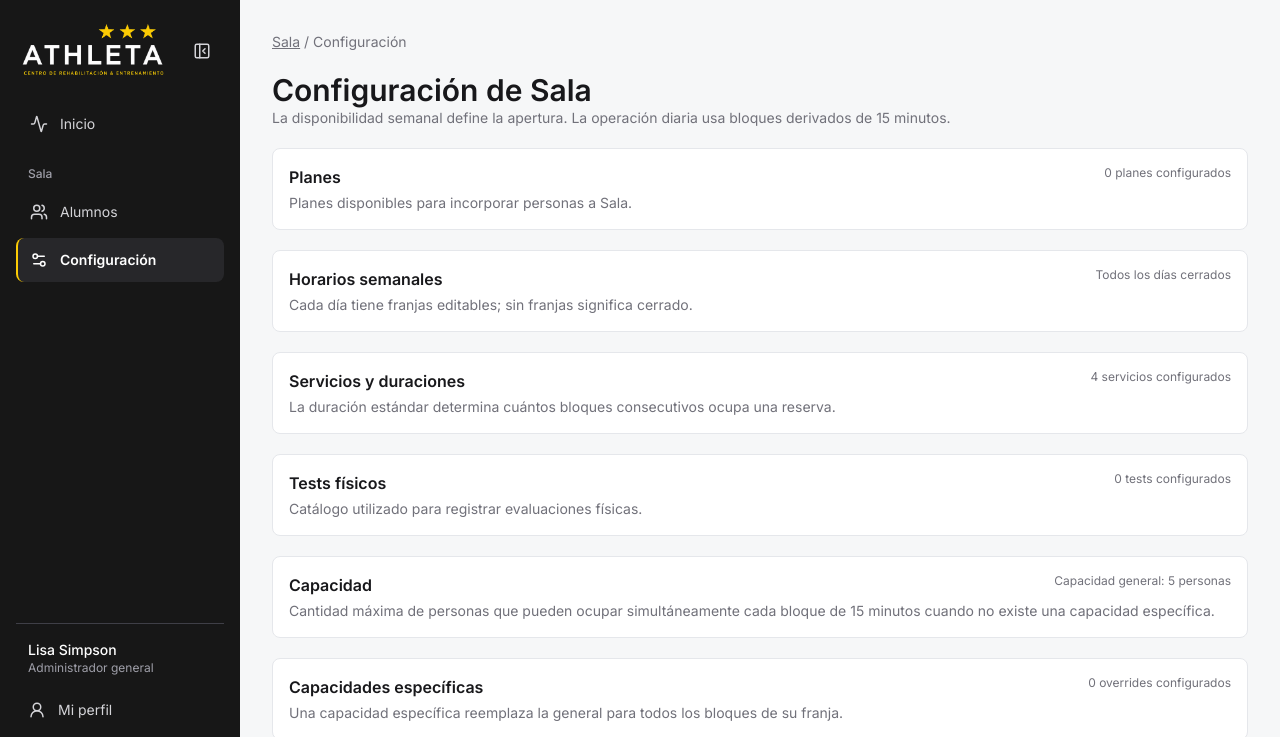
Test: opens the real-field modal, creates a test and refreshes the listing
Click the heading "Tests físicos" at (338, 483), box [289,471,386,495]
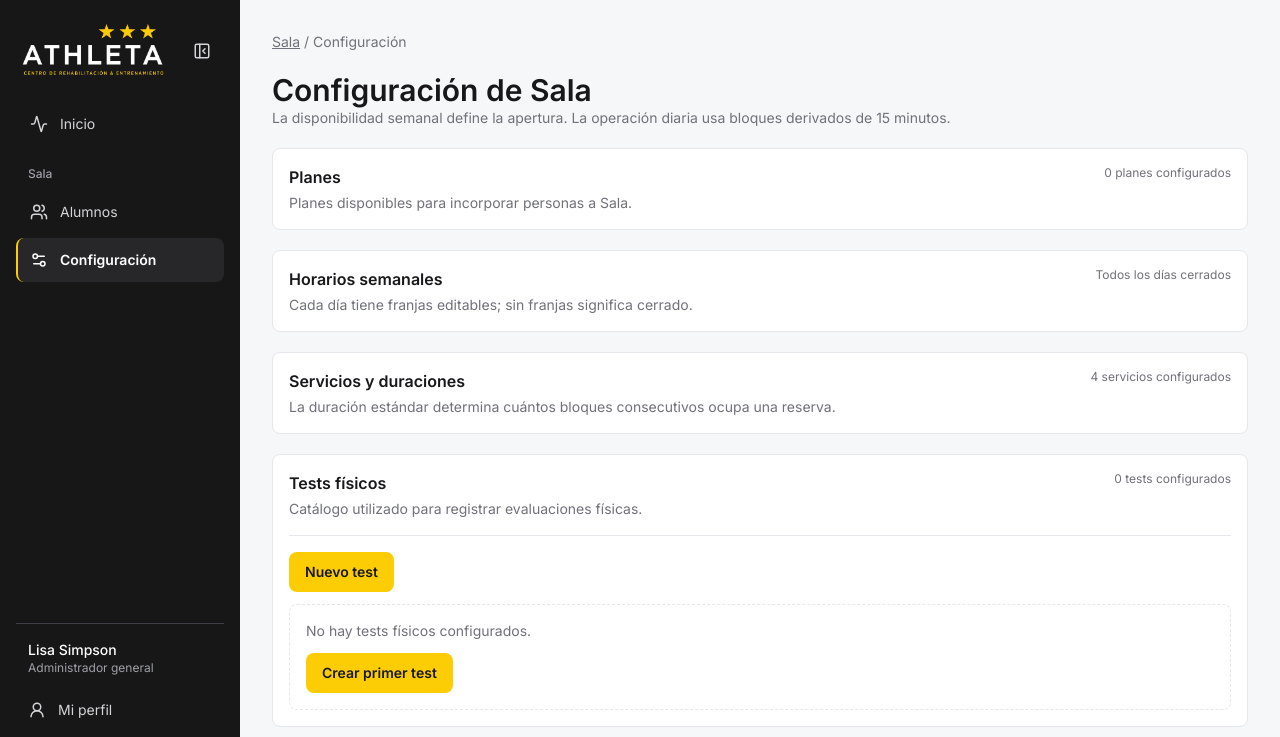
Click the button "Crear primer test" at (379, 673), box [306,653,453,693]
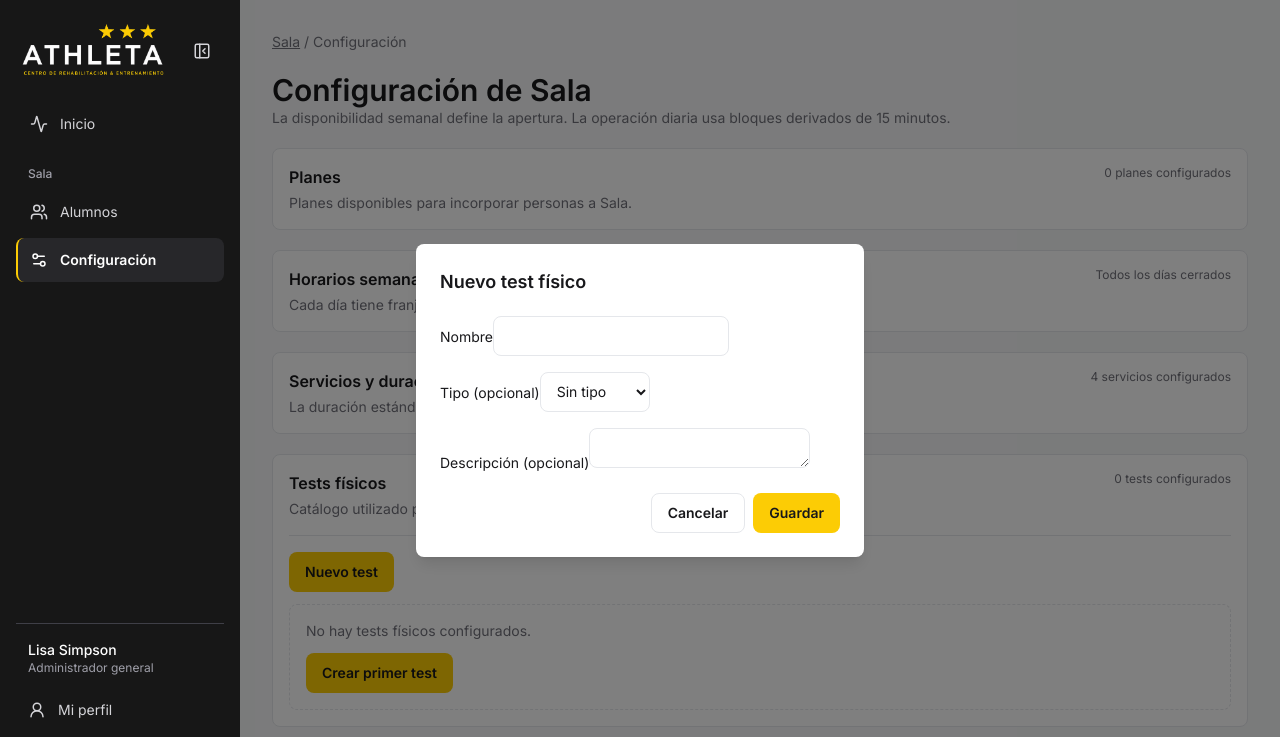
Type "Sentadilla" into the field named "Nombre del test físico" at (611, 336), box [493,316,729,356]
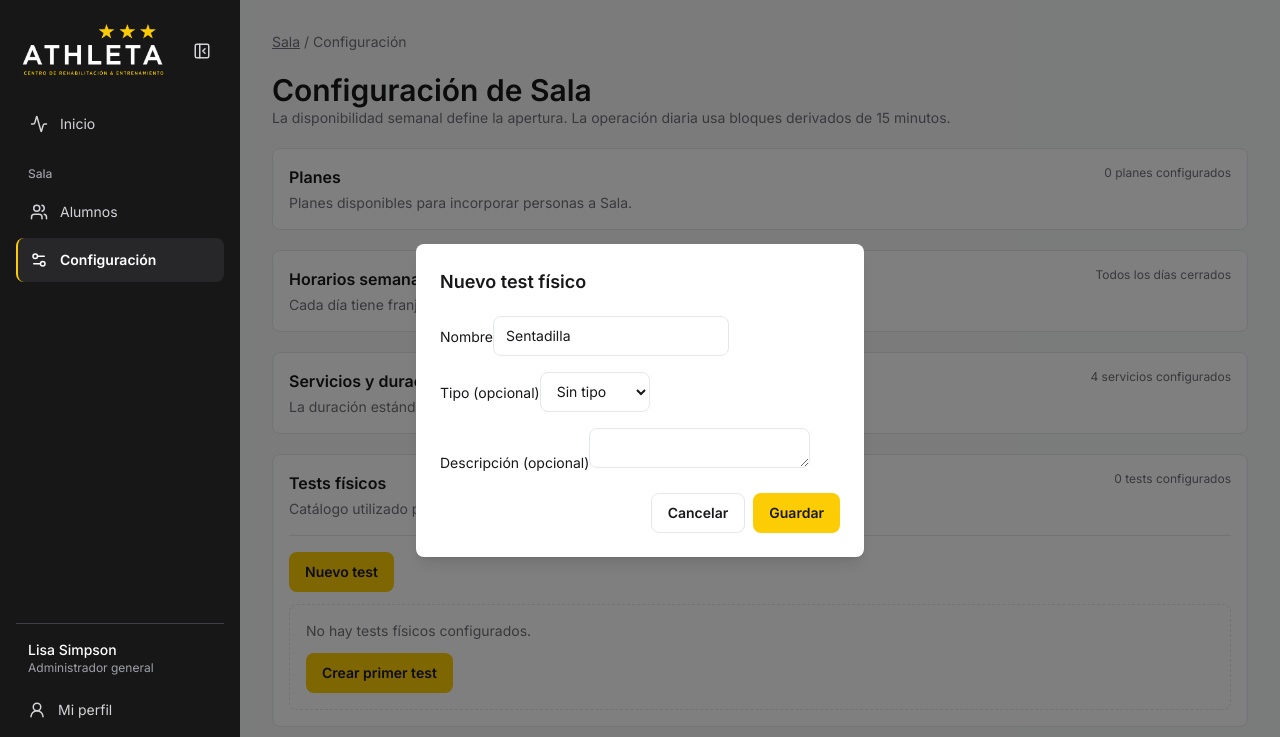
Select "Fuerza" in the dropdown named "Tipo del test físico" at (595, 392), box [540,372,650,412]
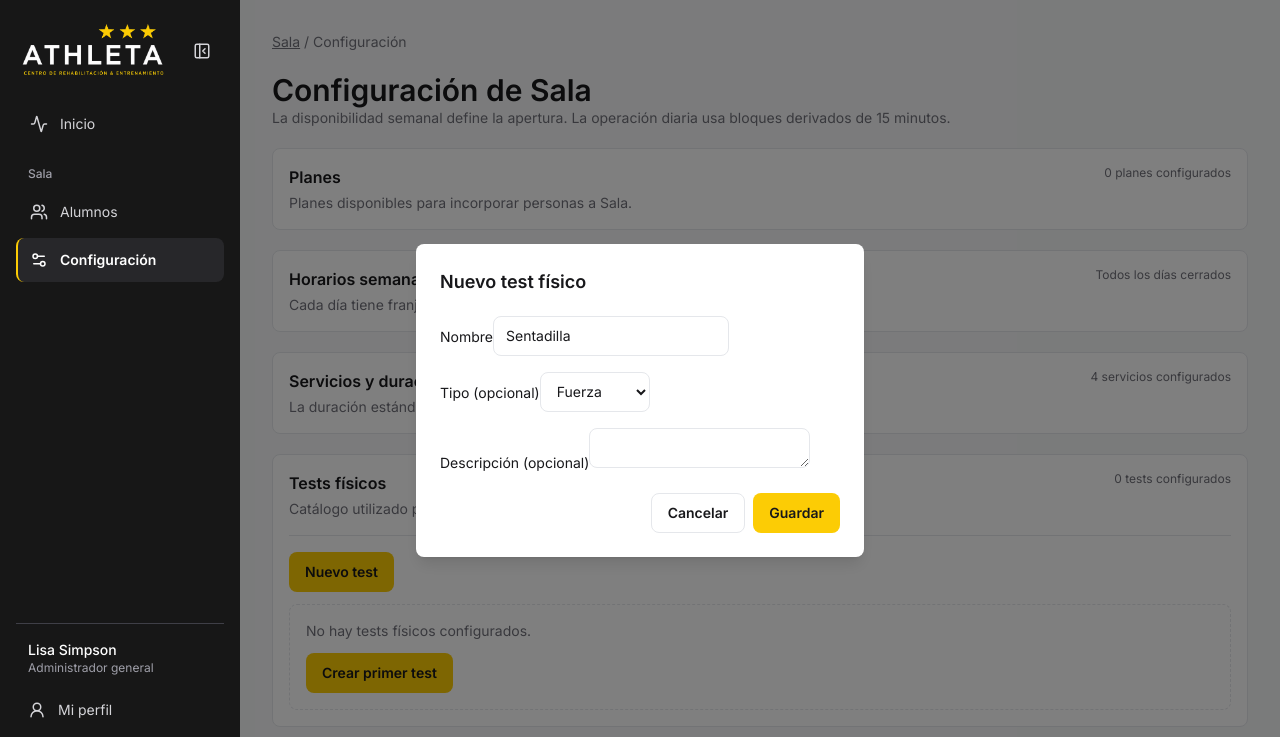
Type "Cantidad en un minuto" into the text box named "Descripción del test físico" at (700, 448), box [589,428,810,468]
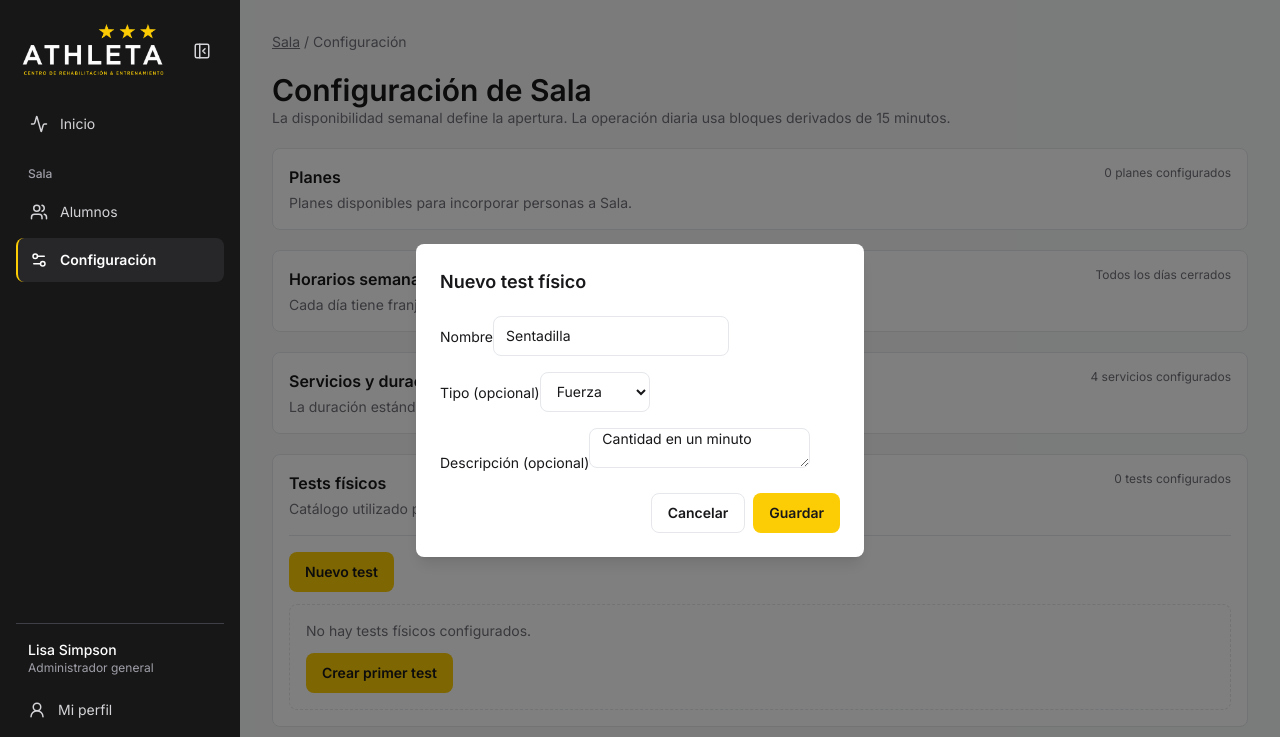
Click the button "Guardar" at (797, 512), box [753,492,840,532]
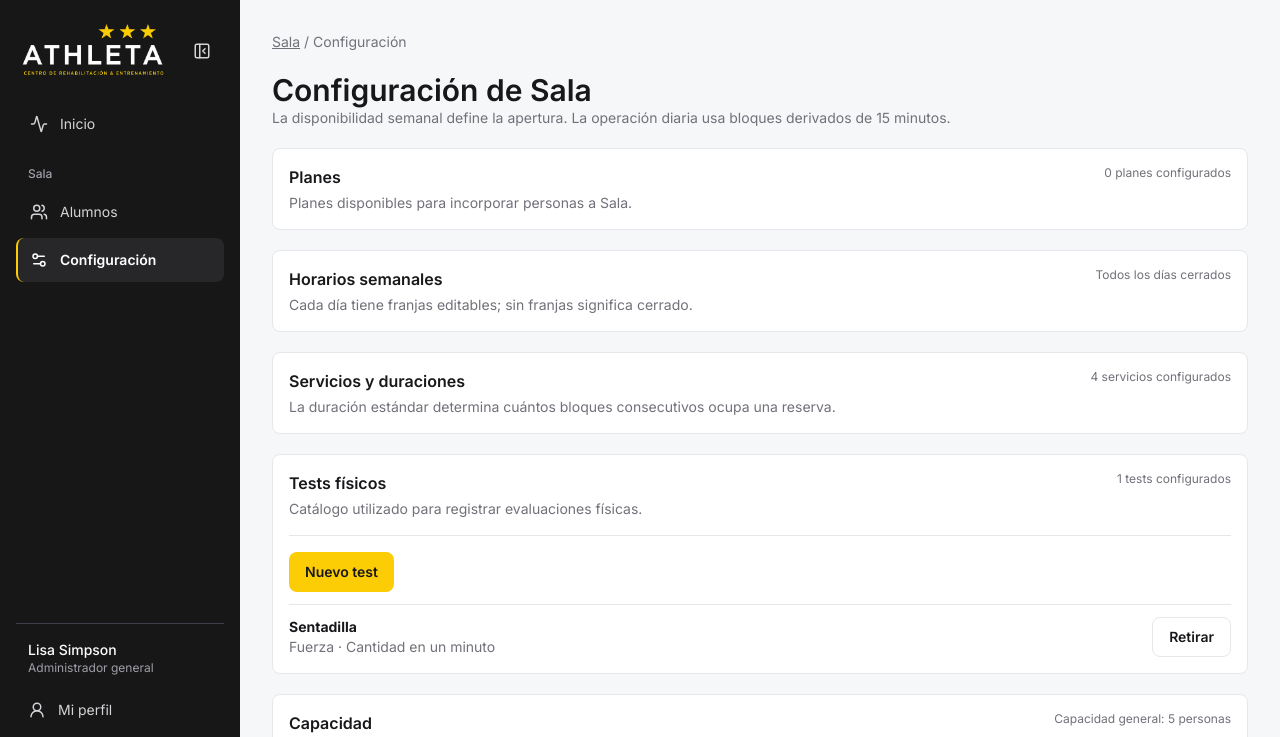
Expected: the heading "Nuevo test físico" is gone
Expected: the text "Sentadilla" is shown, [289,618,357,635]
Expected: the text "Fuerza · Cantidad en un minuto" is shown, [289,638,495,655]
